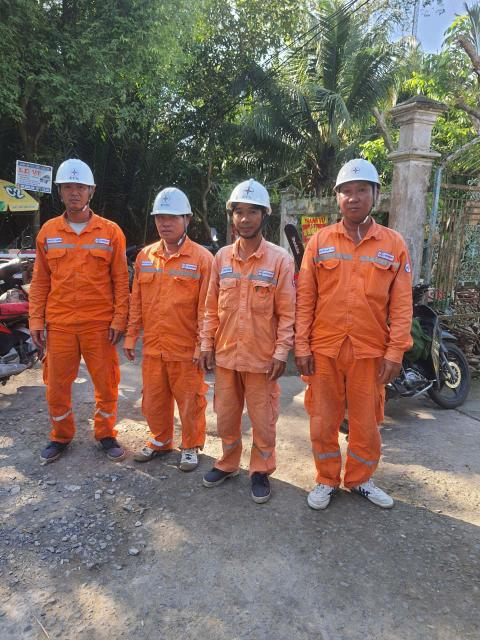helmet: (324, 156, 389, 193), (226, 174, 280, 213), (48, 158, 102, 194), (140, 187, 197, 221)
shoes: (340, 470, 402, 507), (244, 457, 273, 506), (38, 433, 78, 466), (198, 459, 242, 488), (306, 473, 335, 512), (90, 432, 128, 461), (134, 435, 173, 462), (176, 438, 198, 473)
